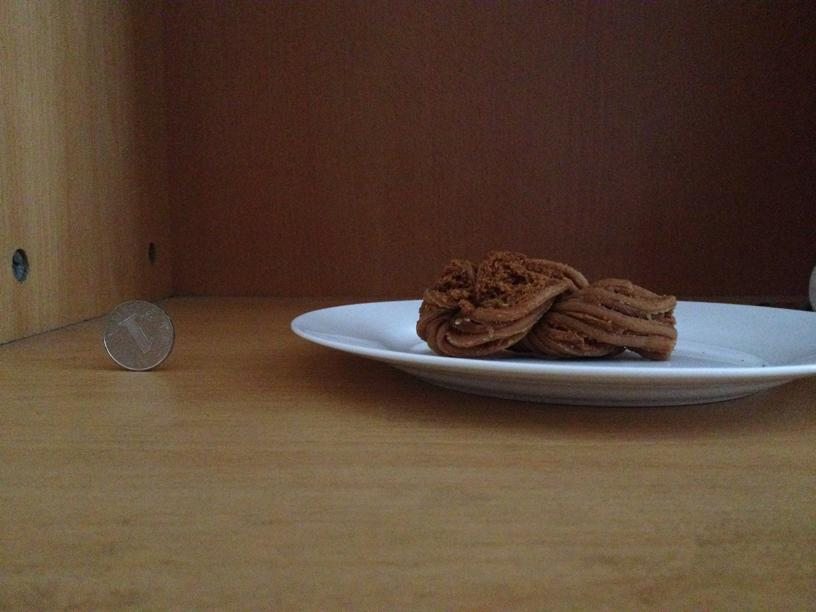coin: (104, 300, 173, 371)
fired_dough_twist: (412, 248, 679, 359)
